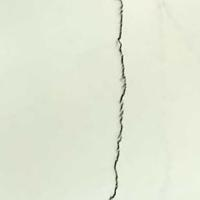crack: (97, 0, 140, 199)
